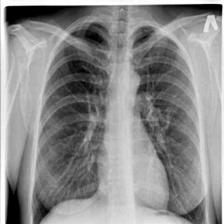tuberculosis: (31, 16, 209, 224)
